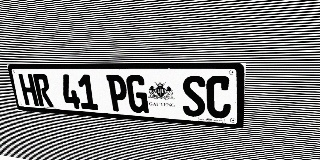1: (76, 74, 98, 110)
4: (59, 74, 81, 109)
C: (206, 76, 232, 119)
G: (126, 75, 149, 114)
H: (18, 74, 39, 106)
P: (106, 75, 129, 112)
R: (32, 74, 54, 107)
S: (182, 75, 206, 117)
